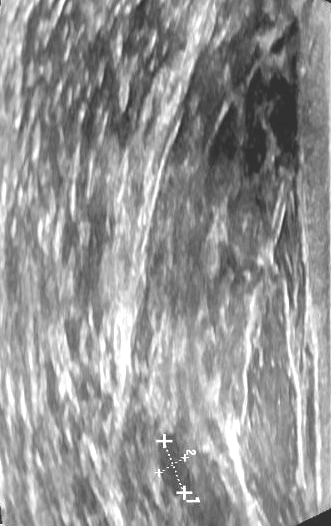Benign: (150, 435, 195, 494)
Normal: (12, 0, 313, 526)
